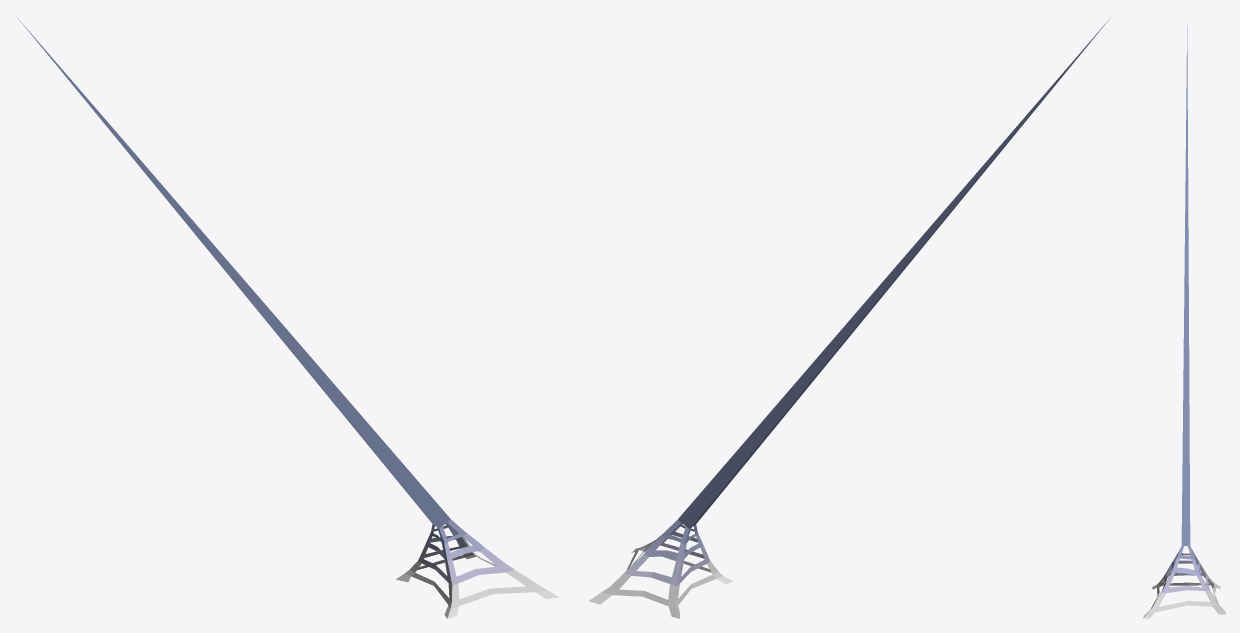
File: Prop_Spiderweb_01.fbx
3 renders of one model, left to right at view 1: azimuth 30°, elevation 25°; view 2: azimuth 150°, elevation 25°; view 3: azimuth 270°, elevation 25°, orthographic. The views are drawn at different scales.
Parts seen in each view (by area): view 1: spiderweb01; view 2: spiderweb01; view 3: spiderweb01.
Part boxes in pixels (bbox=[...]): spiderweb01: bbox=[16, 16, 558, 618]; spiderweb01: bbox=[588, 17, 1110, 618]; spiderweb01: bbox=[1142, 26, 1225, 618].
Bounding box in the file's own units: 1110 × 1422 × 242.
